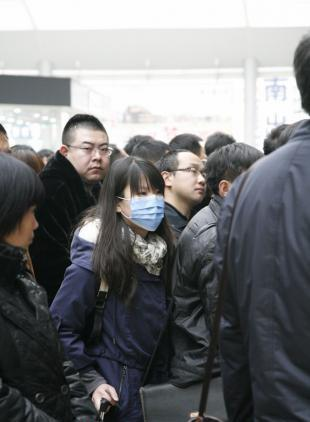NONE: (70, 138, 111, 179), (5, 205, 42, 250), (177, 165, 208, 202)
OK: (111, 177, 165, 231)
